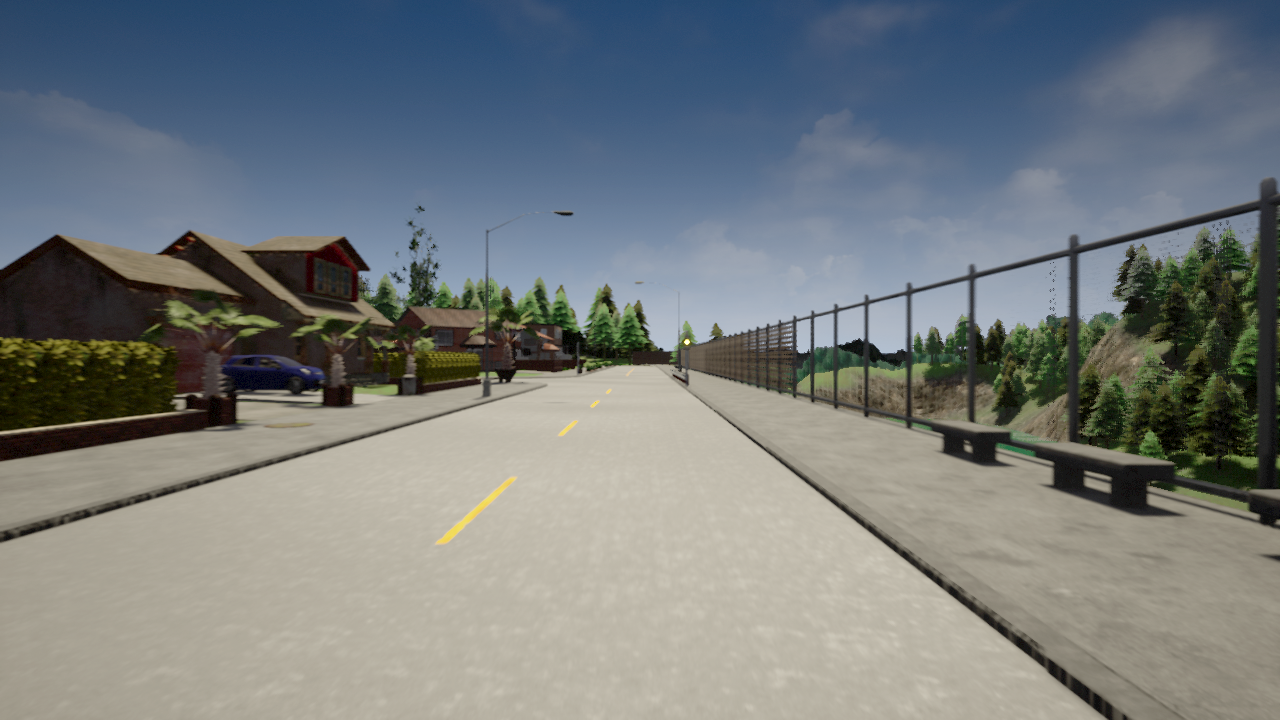yellow: (682, 335, 692, 351)
